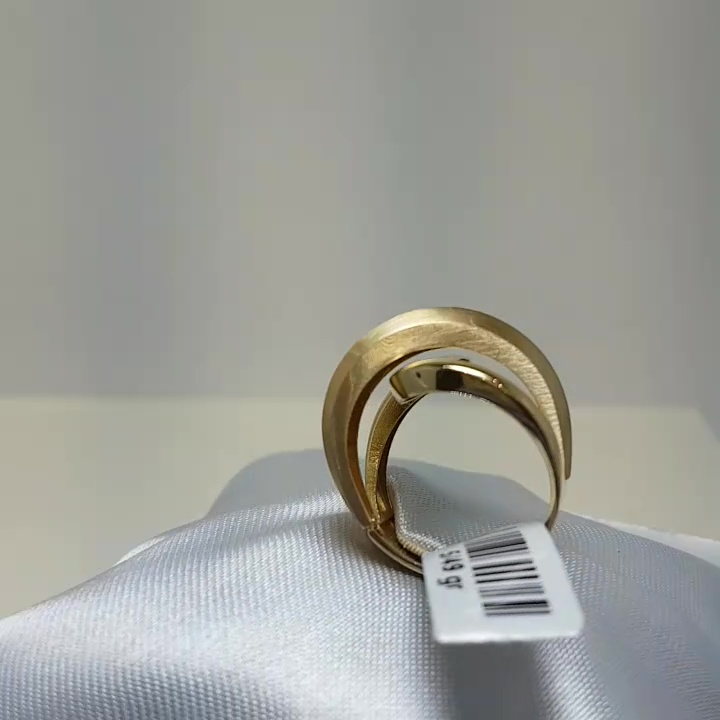Ring 3: (260, 277, 607, 630)
